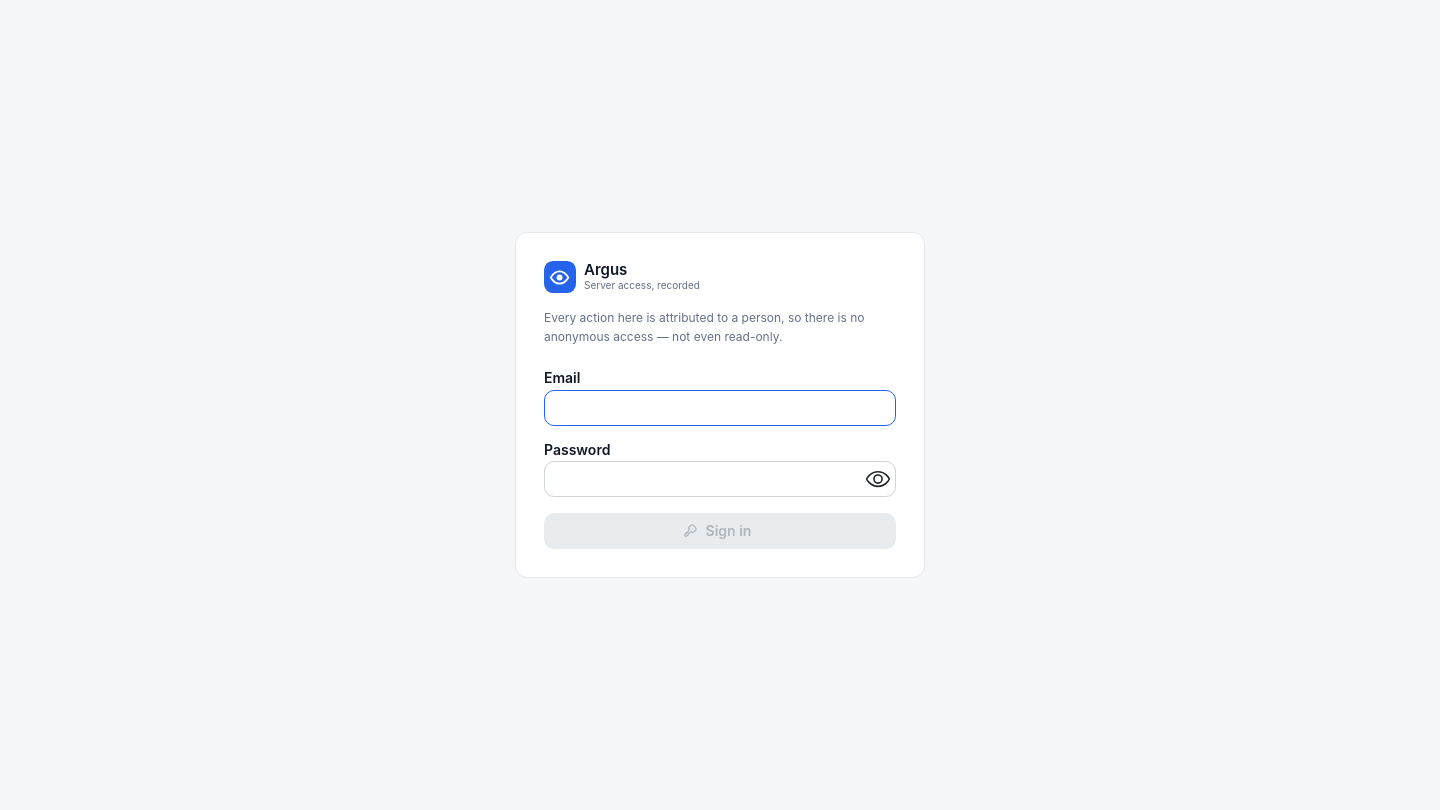
LoginGate › re-runs loaders that failed before sign-in, without a reload
Type "dev@northwind.id" into the field labelled "Email" at coordinates (720, 408), box [544, 390, 896, 426]
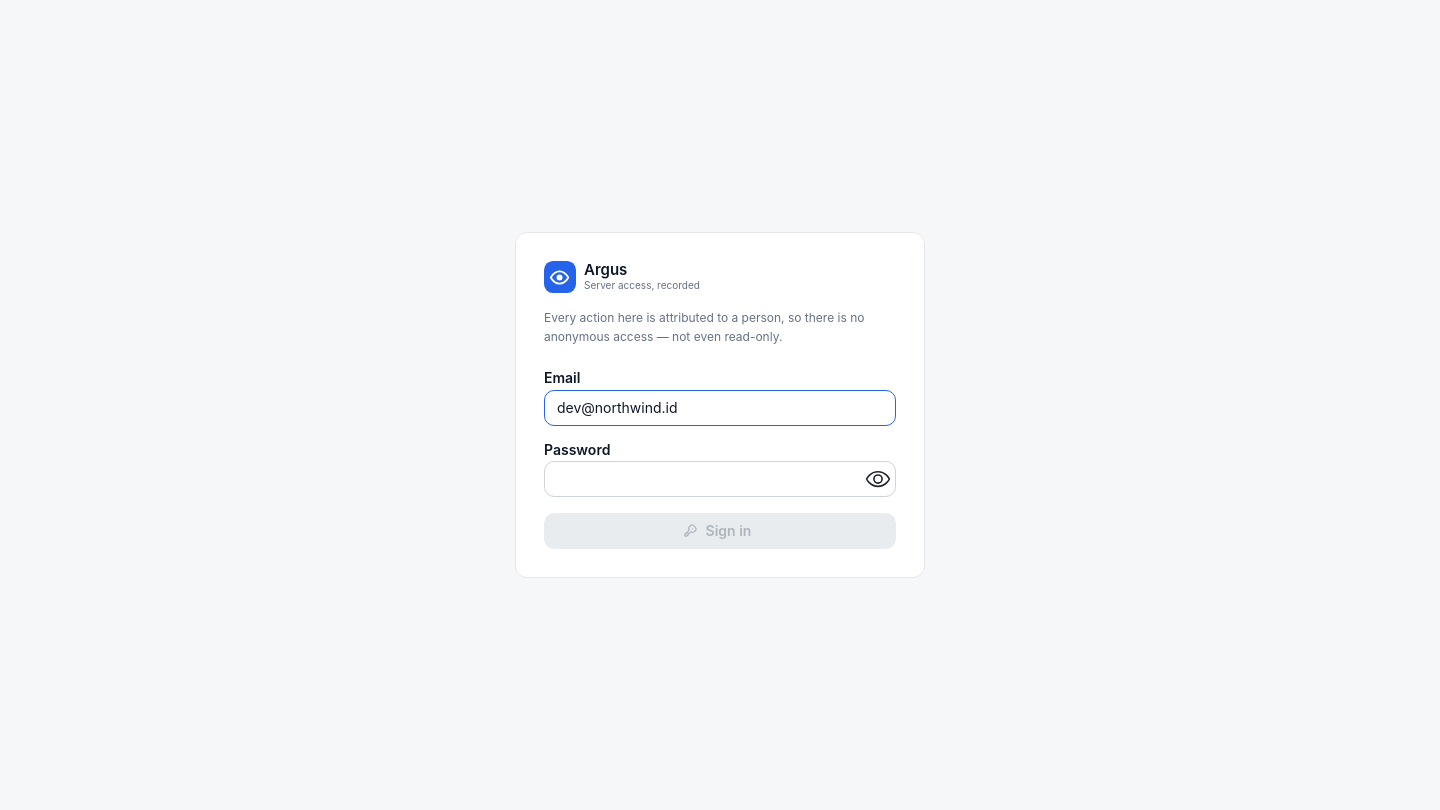
Type "correct-horse" into the password field labelled "Password" at coordinates (666, 479), box [557, 462, 775, 496]
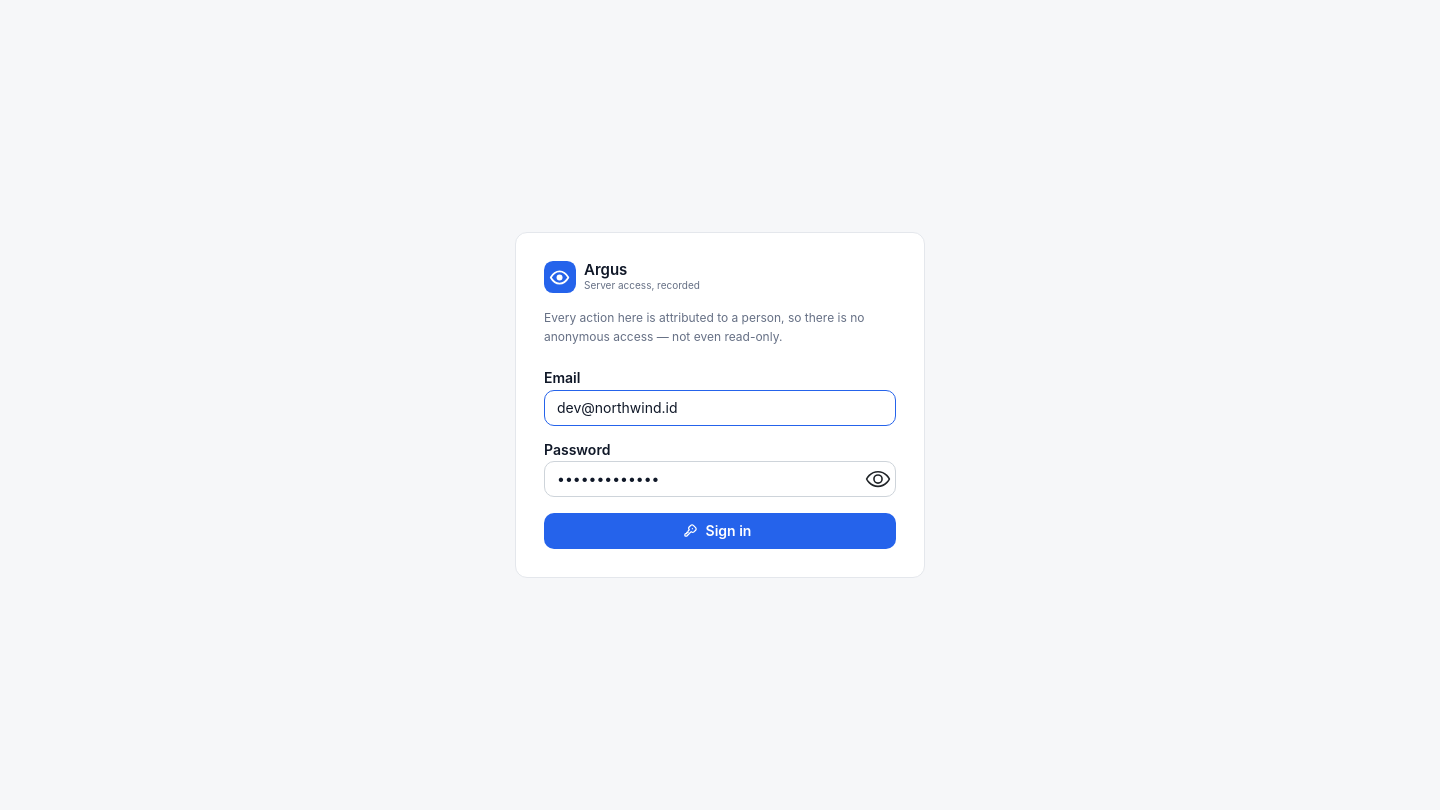
Click the button "Sign in" at coordinates (720, 531), box [544, 513, 896, 549]
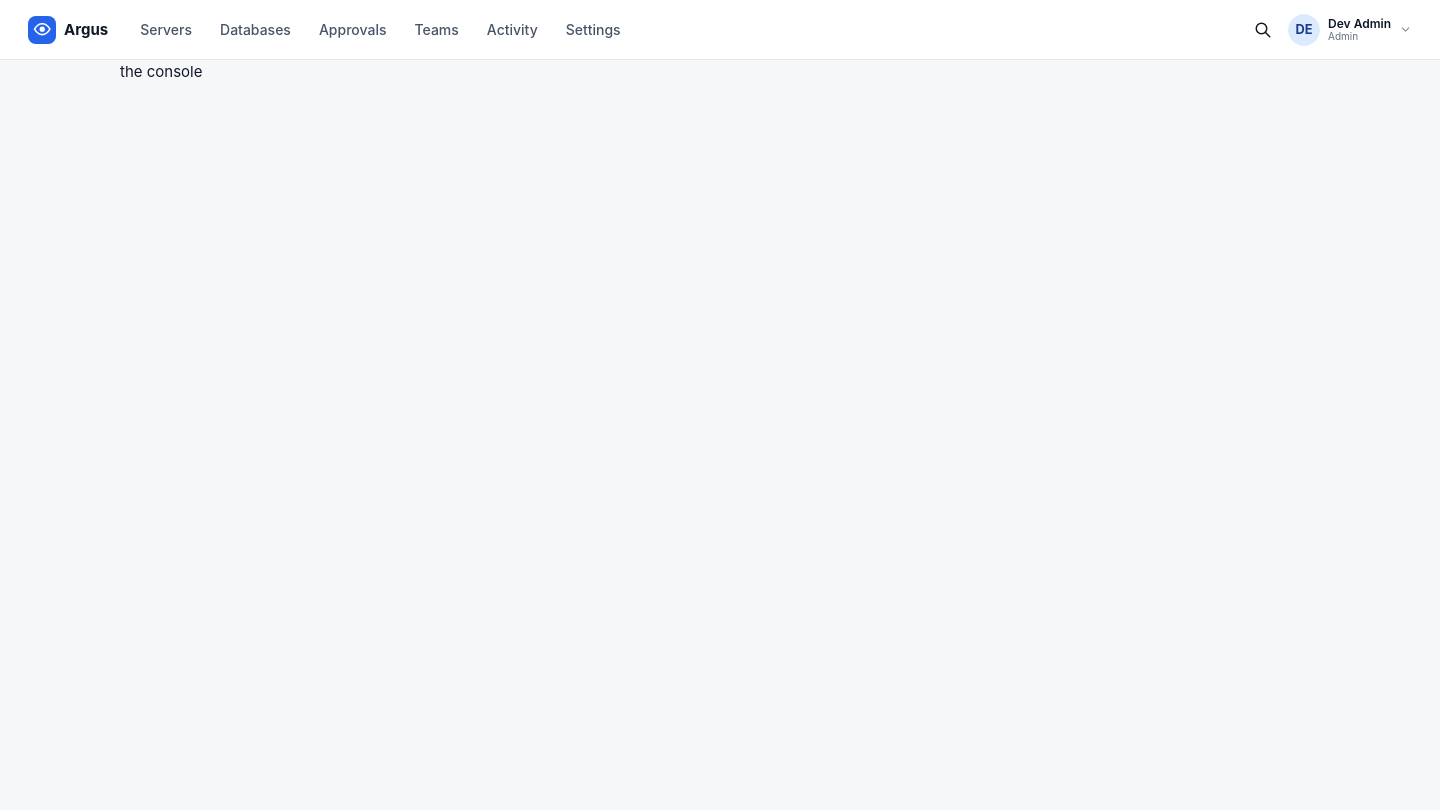
Result: the text "the console" is shown at [120, 62, 202, 81]
